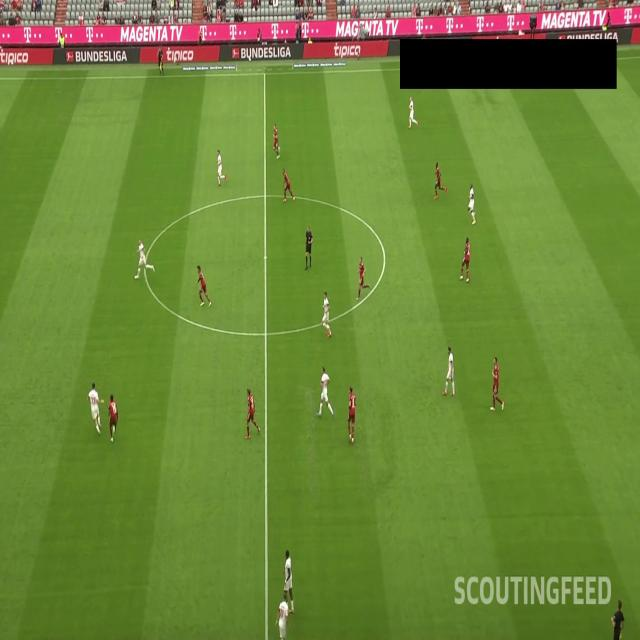player: (315, 364, 337, 419), (133, 233, 156, 281), (85, 379, 103, 437), (282, 541, 296, 614), (488, 356, 505, 414), (245, 381, 261, 442), (194, 259, 213, 309), (440, 343, 455, 399), (317, 289, 333, 337), (458, 233, 473, 283), (214, 144, 230, 188), (356, 250, 370, 300), (276, 592, 290, 640), (280, 164, 296, 204), (346, 382, 356, 445), (466, 178, 478, 225), (107, 394, 118, 444), (270, 118, 282, 163), (434, 161, 448, 199), (408, 92, 420, 130)
referee: (304, 219, 314, 272), (157, 47, 166, 77)
